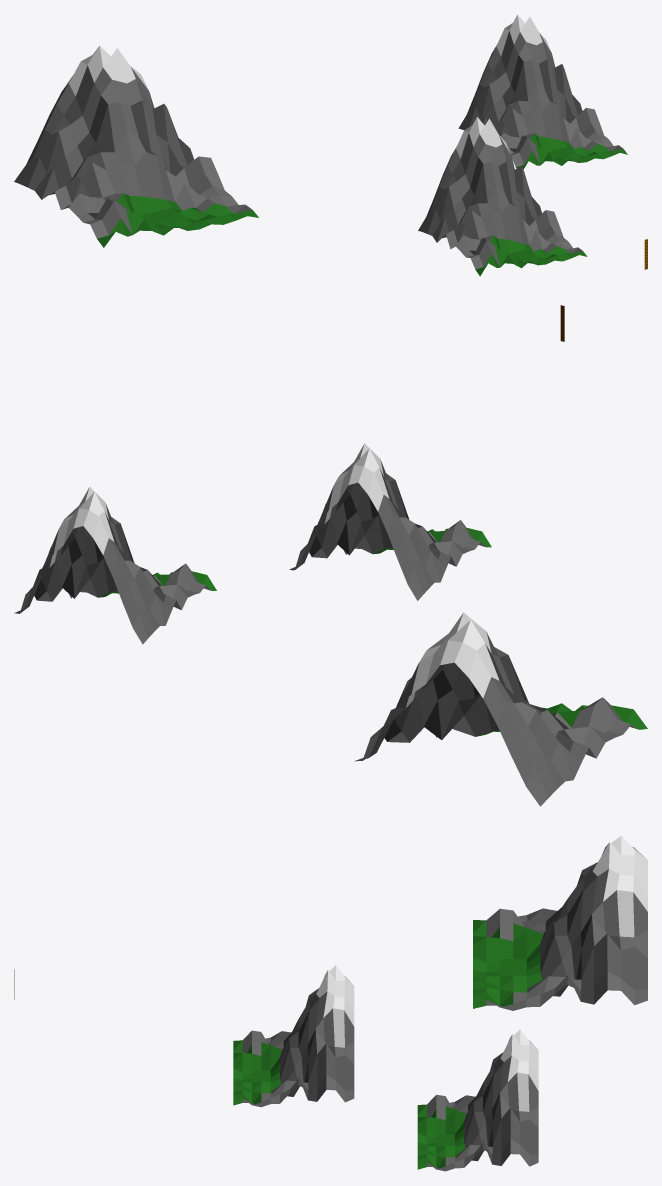
Rendered from long_climb.fbx.
3 renders of one model, top to bottom at view 1: azimuth 30°, elevation 25°; view 2: azimuth 150°, elevation 25°; view 3: azimuth 270°, elevation 25°, orthographic. The views are drawn at different scales.
Visible parts, largest first — view 1: Plane.002, Plane, Plane.001; view 2: Plane.002, Plane.001, Plane; view 3: Plane.002, Plane, Plane.001.
Boxes of the visible parts, bbox=[...] form: Plane.002: bbox=[14, 45, 258, 247]; Plane: bbox=[418, 117, 587, 276]; Plane.001: bbox=[458, 14, 627, 169]; Plane.002: bbox=[354, 612, 647, 806]; Plane.001: bbox=[14, 487, 216, 644]; Plane: bbox=[289, 443, 491, 600]; Plane.002: bbox=[473, 835, 647, 1010]; Plane: bbox=[233, 965, 354, 1107]; Plane.001: bbox=[417, 1029, 538, 1171].
Size of the model in its own units: 63742 by 17881 by 72458.
